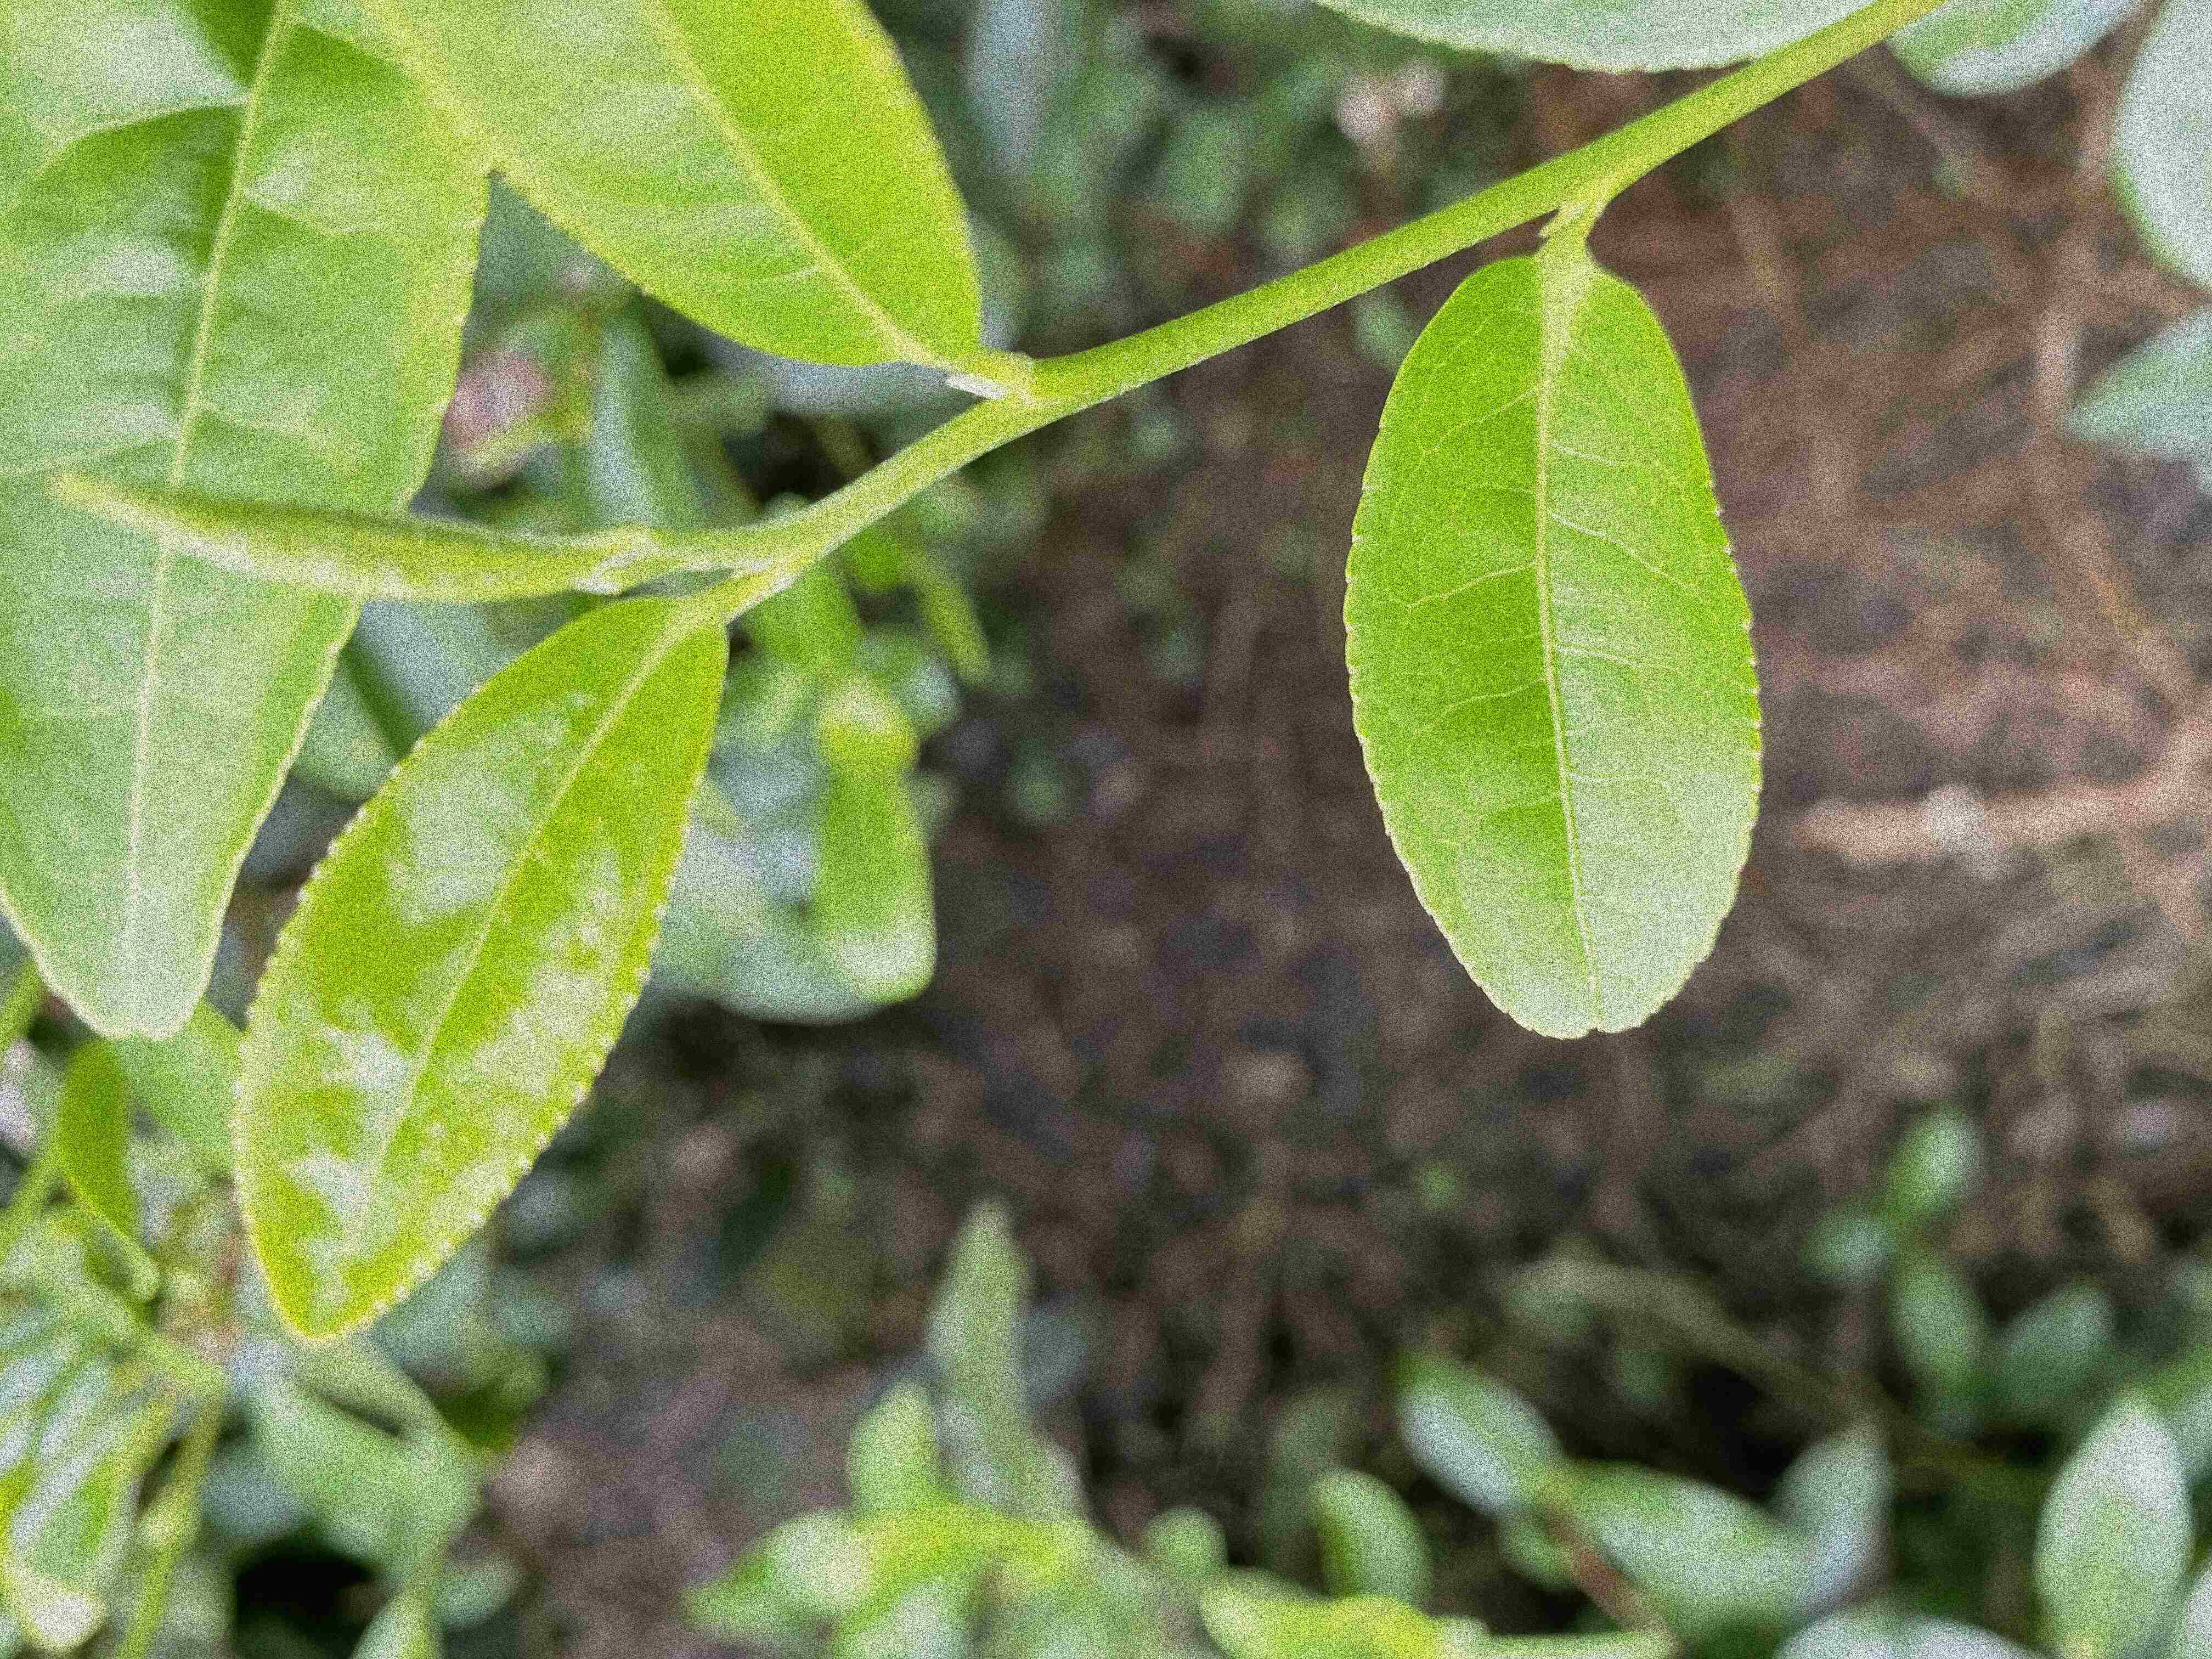healthy: (2, 3, 491, 1044), (230, 591, 732, 1351), (1346, 254, 1768, 1040), (376, 3, 986, 369)
